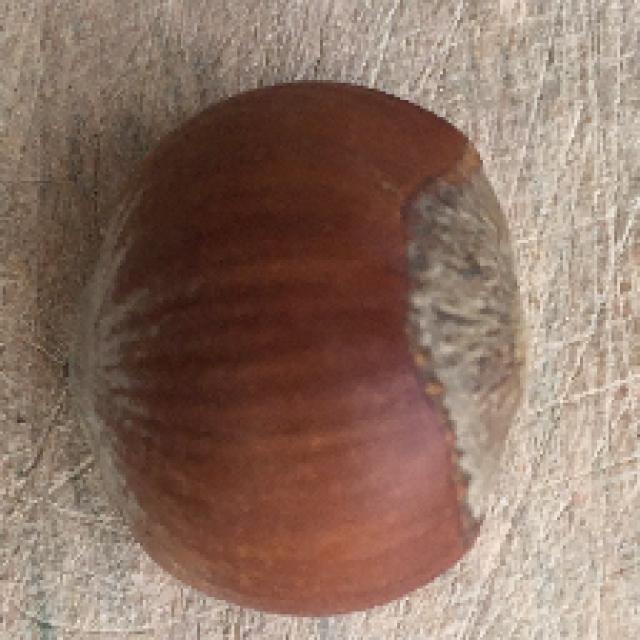damagedHazelnut: (70, 63, 528, 620)
